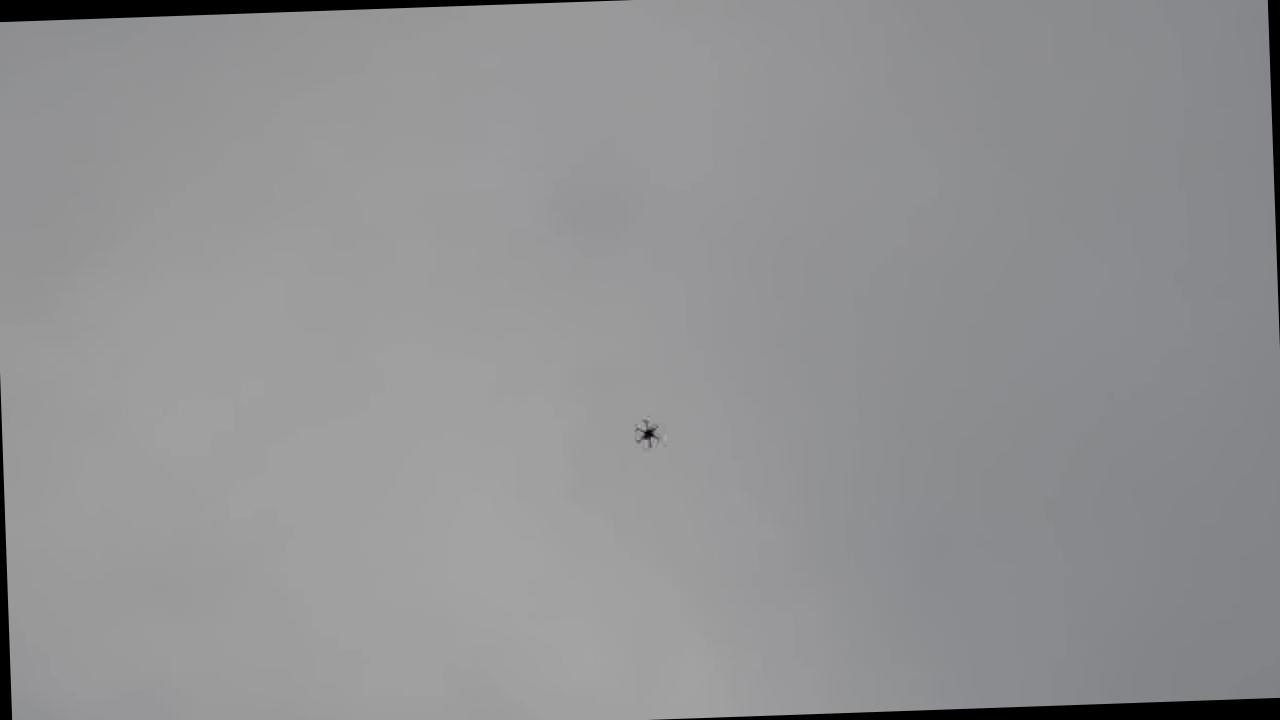drone: (627, 412, 663, 450)
